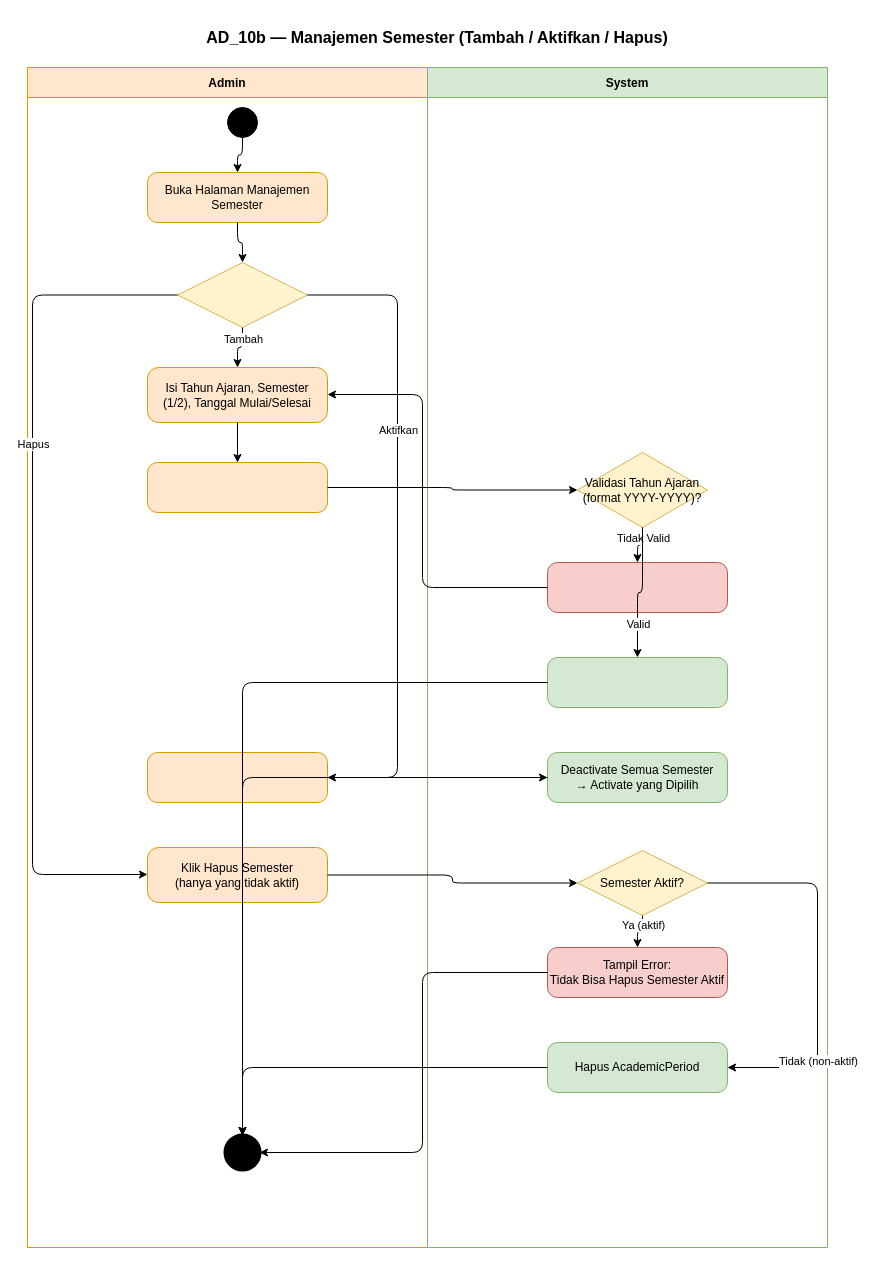
The diagram is 875 pixels wide and 1265 high, and some of its shapes have lost their labels. Here are the shapes that lost their labels. From the top down, the centre of each, then its label:
the point at 242,295: Pilih Aksi
the point at 237,487: Klik Simpan Semester
the point at 637,587: Tampil Error Format
the point at 637,682: Simpan AcademicPeriod
the point at 237,777: Klik Aktifkan Semester
